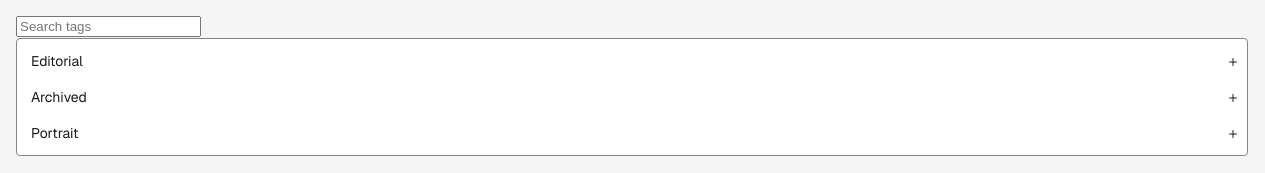
Test case: TagPicker › shows the empty message when nothing matches
Type "zzz" into the search field named "Select tags" at (108, 26), box top-left (16, 16), bottom-right (201, 37)
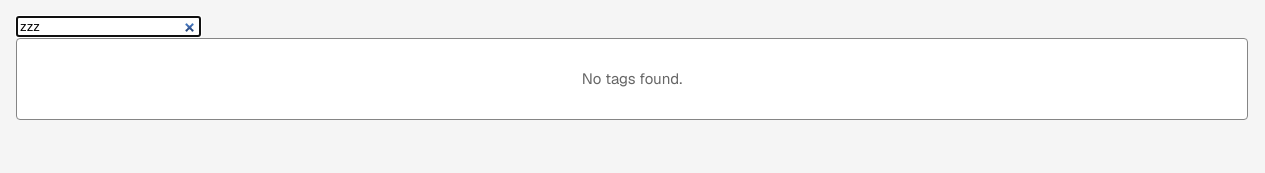
Now the list reads "No tags found.", box top-left (582, 69), bottom-right (682, 88)
